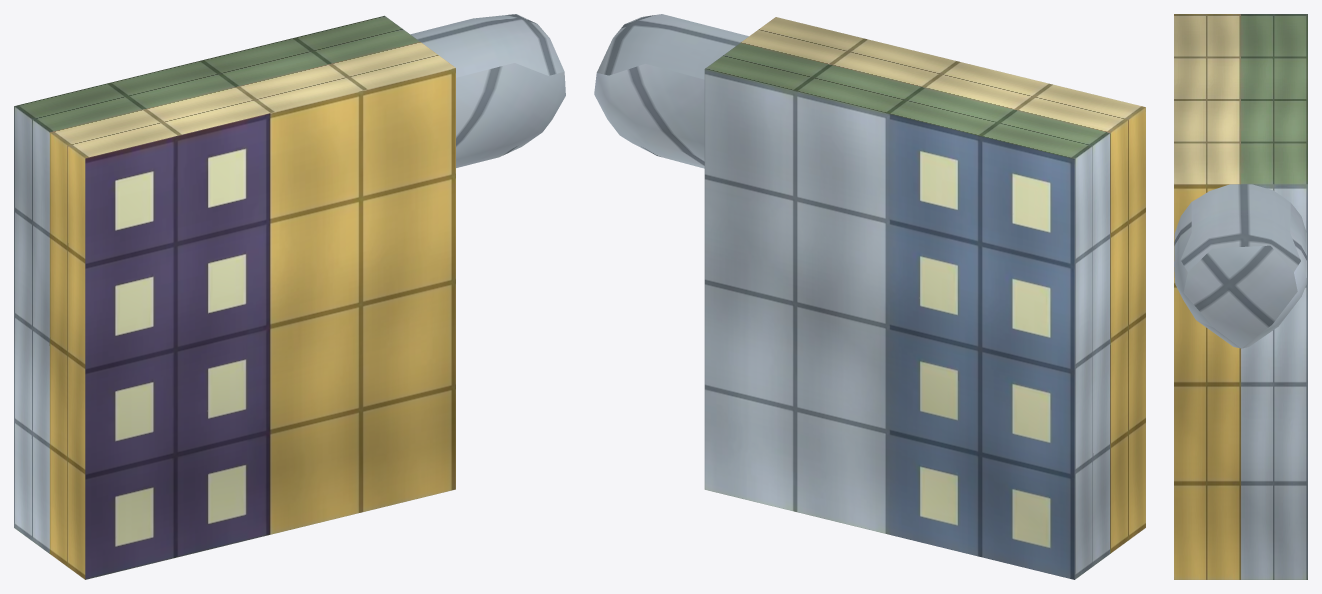
File: pipe_bend.glb
3 views of the same model, side by side, from view 1: azimuth 30°, elevation 25°; view 2: azimuth 150°, elevation 25°; view 3: azimuth 270°, elevation 25° (orthographic). The views are drawn at different scales.
Visible parts, largest first — view 1: col, lod0; view 2: col, lod0; view 3: col, lod0.
Part boxes in pixels (x1,y1,x2,y2): col: (14,15,455,579); lod0: (410,14,565,167); col: (704,17,1145,579); lod0: (594,14,748,168); col: (1174,14,1307,579); lod0: (1174,184,1306,348).
Size of the model in its own units: 1.43 by 1.17 by 0.3572.
1 material, 1 textured.
